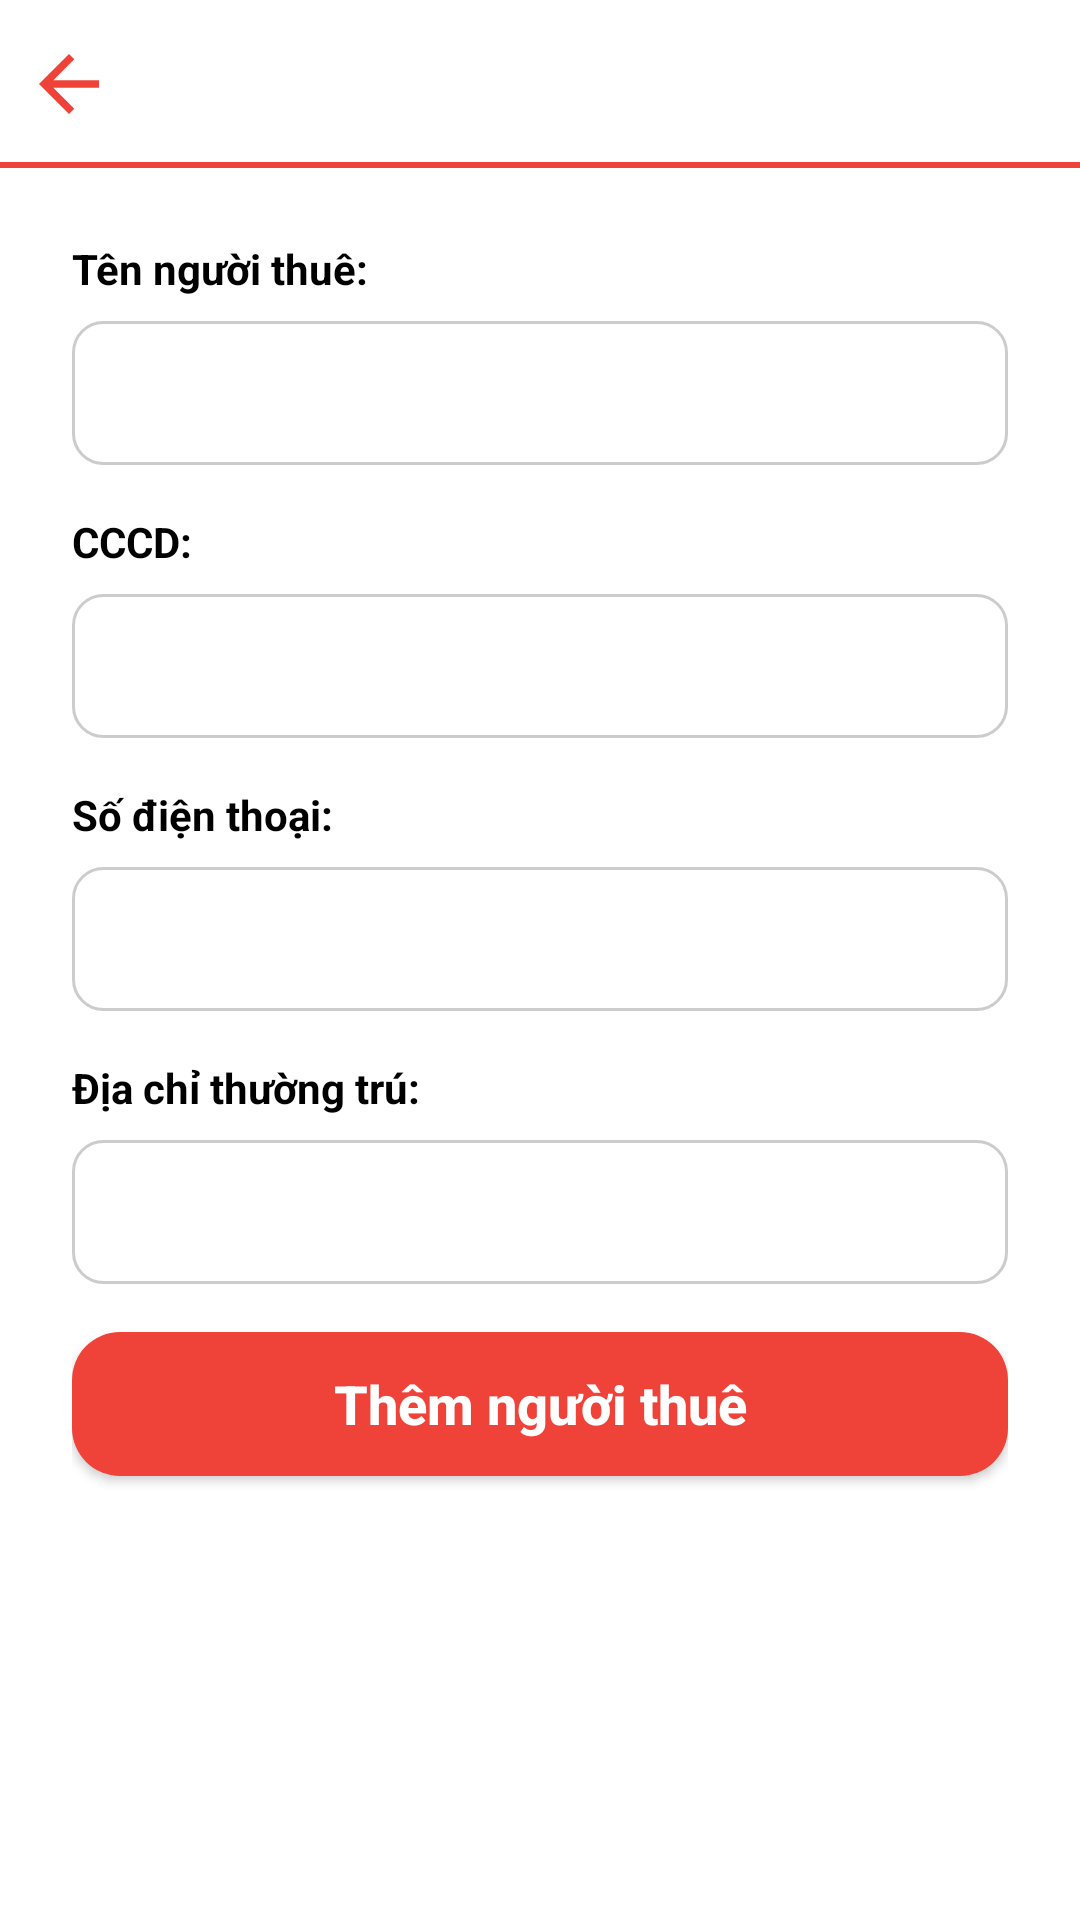

Where to tap for icons on this 1080px x 1920px app screen, as [x,y]:
back: [69,84]
